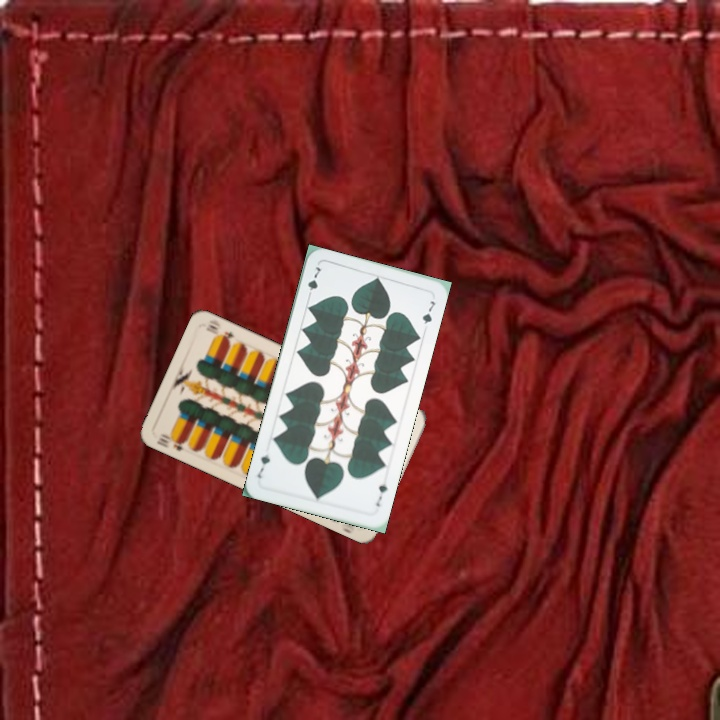E10: (152, 429, 189, 454)
G7: (303, 263, 325, 301), (372, 475, 390, 509)
